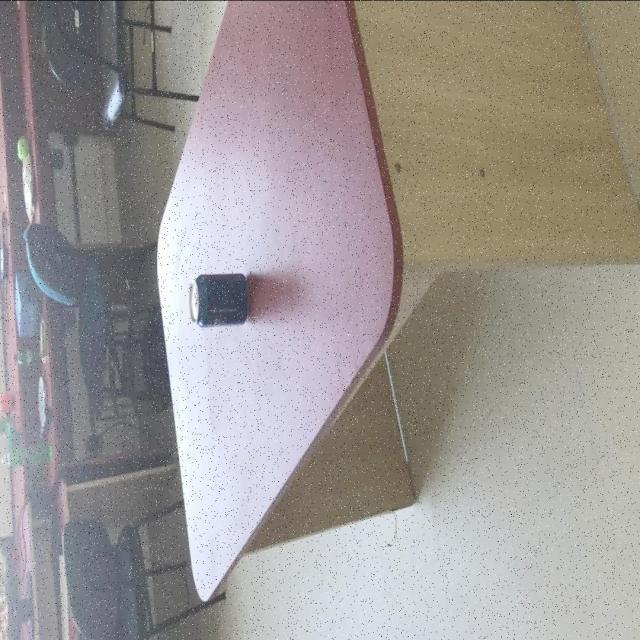Tonic: (188, 273, 248, 329), (0, 444, 52, 469), (12, 350, 40, 368)
